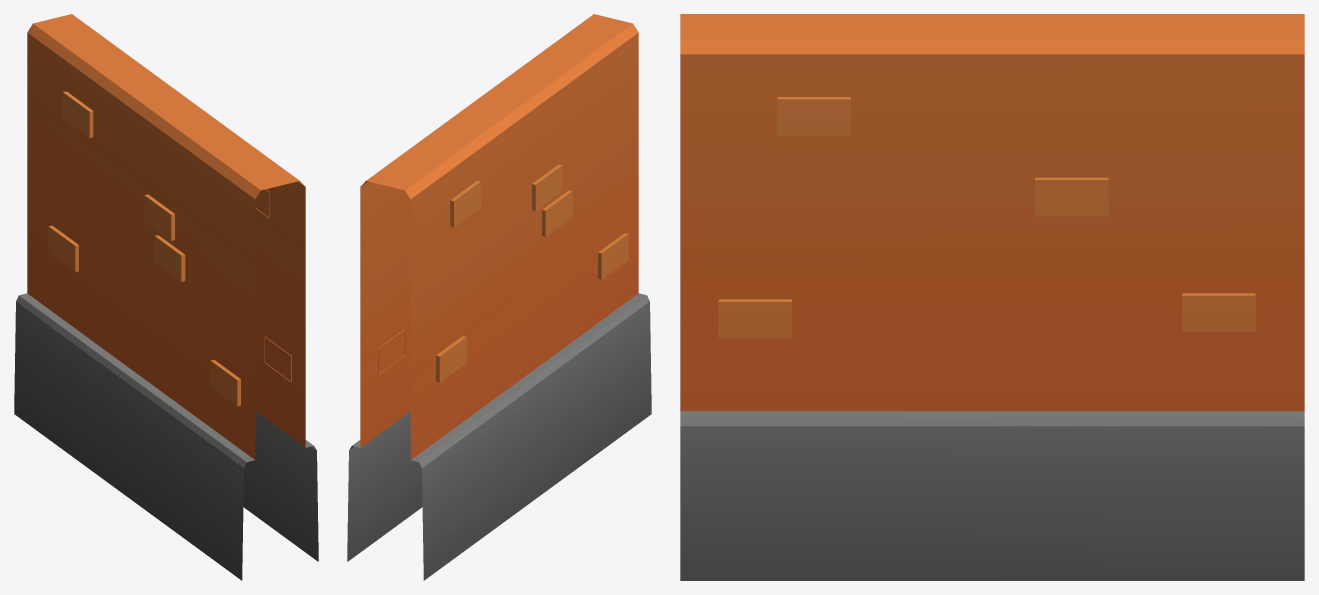
File: WallFence_3_1_A.fbx
The picture shows the model from 3 angles, left to right: view 1: azimuth 30°, elevation 25°; view 2: azimuth 150°, elevation 25°; view 3: azimuth 270°, elevation 25°; orthographic projection. The views are drawn at different scales.
Parts seen in each view (by area): view 1: WallFence_3_1_A; view 2: WallFence_3_1_A; view 3: WallFence_3_1_A.
Boxes of the visible parts, x1,y1,x2,y2 form: WallFence_3_1_A: (14, 14, 318, 580); WallFence_3_1_A: (347, 14, 651, 580); WallFence_3_1_A: (680, 14, 1304, 580).
Size of the model in its own units: 38.8 by 187 by 200.
